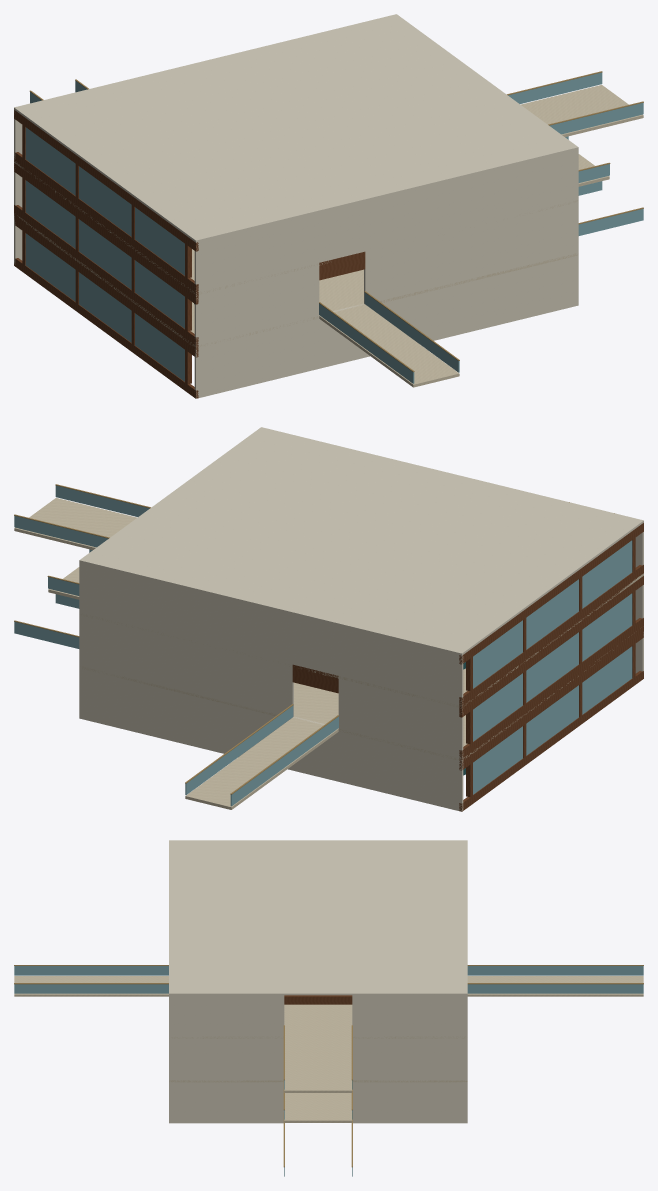
Rendered from StarAtlasUpperCommons.glb.
3 views of the same model, one above another, from view 1: azimuth 30°, elevation 25°; view 2: azimuth 150°, elevation 25°; view 3: azimuth 270°, elevation 25° (orthographic). The views are drawn at different scales.
Parts seen in each view (by area): view 1: SA_TopEnclosure, SA_D17_SouthWall_0, SA_D15_SouthWall_0, SA_D16_SouthWall_1, SA_D16_SouthWall_0, SA_D16_MissingOnlyFloor, SA_D17_MissingOnlyFloor, SA_D16_WestHeader, SA_D15_WestHeader, SA_D17_WestSill, SA_D16_WestSill, SA_D17_WestHeader (+16 smaller); view 2: SA_TopEnclosure, SA_D17_NorthWall_0, SA_D15_NorthWall_0, SA_D16_NorthWall_1, SA_D16_MissingOnlyFloor, SA_D16_NorthWall_0, SA_D17_MissingOnlyFloor, SA_D15_WestHeader, SA_D16_WestHeader, SA_D17_WestSill, SA_D15_WestSill, SA_D16_WestSill (+16 smaller); view 3: SA_TopEnclosure, SA_D17_MissingOnlyFloor, SA_D16_MissingOnlyFloor, SA_D16_EastWall_1, SA_D16_EastWall_0, SA_D15_EastWall_0, SA_D15_EastWall_1, SA_D17_EastWall_0, SA_D17_EastWall_1, SA_D16_HomeLink_-30.5_-86.02_Infill, SA_D16_HomeLink_-30.5_-81.98_Infill, SA_D16_HomeLink_14_-86.02_Infill (+2 smaller).
Boxes of the visible parts, x1=… form: SA_TopEnclosure: x1=14, y1=14, x2=578, y2=242; SA_D17_SouthWall_0: x1=194, y1=149, x2=578, y2=292; SA_D15_SouthWall_0: x1=194, y1=252, x2=578, y2=398; SA_D16_SouthWall_1: x1=364, y1=199, x2=578, y2=303; SA_D16_SouthWall_0: x1=194, y1=263, x2=319, y2=345; SA_D16_MissingOnlyFloor: x1=14, y1=154, x2=609, y2=387; SA_D17_MissingOnlyFloor: x1=14, y1=85, x2=643, y2=294; SA_D16_WestHeader: x1=14, y1=160, x2=198, y2=304; SA_D15_WestHeader: x1=14, y1=213, x2=198, y2=357; SA_D17_WestSill: x1=14, y1=152, x2=198, y2=292; SA_D16_WestSill: x1=14, y1=205, x2=198, y2=345; SA_D17_WestHeader: x1=14, y1=110, x2=198, y2=251; SA_TopEnclosure: x1=79, y1=427, x2=643, y2=655; SA_D17_NorthWall_0: x1=79, y1=562, x2=463, y2=705; SA_D15_NorthWall_0: x1=79, y1=666, x2=463, y2=811; SA_D16_NorthWall_1: x1=79, y1=612, x2=293, y2=716; SA_D16_MissingOnlyFloor: x1=48, y1=567, x2=628, y2=809; SA_D16_NorthWall_0: x1=338, y1=676, x2=463, y2=758; SA_D17_MissingOnlyFloor: x1=14, y1=498, x2=643, y2=707; SA_D15_WestHeader: x1=459, y1=626, x2=643, y2=770; SA_D16_WestHeader: x1=459, y1=573, x2=643, y2=717; SA_D17_WestSill: x1=459, y1=565, x2=643, y2=705; SA_D15_WestSill: x1=459, y1=671, x2=643, y2=811; SA_D16_WestSill: x1=459, y1=618, x2=643, y2=758; SA_TopEnclosure: x1=169, y1=840, x2=467, y2=995; SA_D17_MissingOnlyFloor: x1=171, y1=1004, x2=465, y2=1092; SA_D16_MissingOnlyFloor: x1=14, y1=976, x2=643, y2=1122; SA_D16_EastWall_1: x1=169, y1=1036, x2=283, y2=1079; SA_D16_EastWall_0: x1=353, y1=1036, x2=466, y2=1079; SA_D15_EastWall_0: x1=352, y1=1080, x2=467, y2=1123; SA_D15_EastWall_1: x1=169, y1=1080, x2=283, y2=1123; SA_D17_EastWall_0: x1=352, y1=995, x2=467, y2=1036; SA_D17_EastWall_1: x1=169, y1=995, x2=284, y2=1036; SA_D16_HomeLink_-30.5_-86.02_Infill: x1=467, y1=966, x2=643, y2=975; SA_D16_HomeLink_-30.5_-81.98_Infill: x1=467, y1=984, x2=643, y2=993; SA_D16_HomeLink_14_-86.02_Infill: x1=14, y1=966, x2=168, y2=975.
Size of the model in its own units: 46.02 by 13.46 by 59.04.
7 materials, 5 textured.
